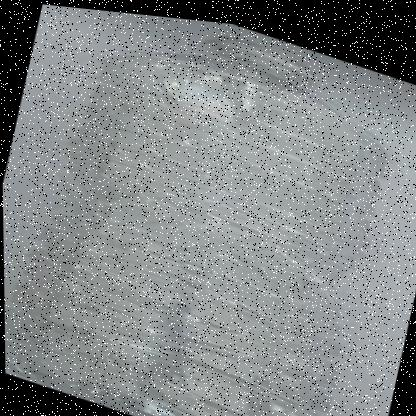open bottle: (65, 6, 416, 192)
